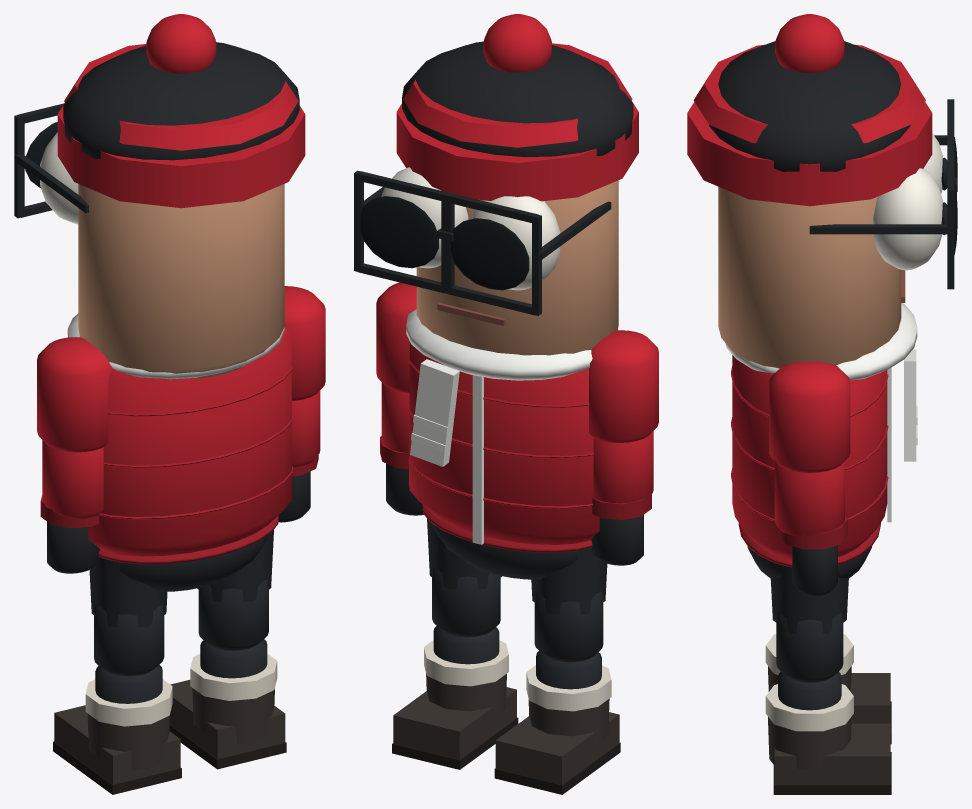
Rendered from spectator_winter_7.glb.
3 views of the same model, side by side, from view 1: azimuth 30°, elevation 25°; view 2: azimuth 150°, elevation 25°; view 3: azimuth 270°, elevation 25° (orthographic). The views are drawn at different scales.
Visible parts, largest first — view 1: Head, RallySpectator, LeftShin, RightShin, LeftArm, LeftLeg, LeftForearm, RightLeg, RightArm, RightForearm; view 2: Head, RallySpectator, LeftShin, RightShin, LeftArm, LeftForearm, LeftLeg, RightLeg, RightArm, RightForearm; view 3: Head, RallySpectator, RightShin, RightArm, RightForearm, RightLeg, LeftShin.
Boxes of the visible parts, bbox=[...] form: Head: bbox=[14, 14, 305, 378]; RallySpectator: bbox=[67, 313, 293, 591]; LeftShin: bbox=[53, 665, 181, 794]; RightShin: bbox=[169, 639, 286, 769]; LeftArm: bbox=[37, 337, 112, 452]; LeftLeg: bbox=[89, 558, 167, 676]; LeftForearm: bbox=[40, 440, 103, 573]; RightLeg: bbox=[197, 530, 273, 650]; RightArm: bbox=[284, 286, 325, 400]; RightForearm: bbox=[278, 390, 320, 522]; Head: bbox=[354, 14, 638, 355]; RallySpectator: bbox=[406, 309, 618, 579]; LeftShin: bbox=[494, 651, 620, 794]; RightShin: bbox=[392, 626, 518, 769]; LeftArm: bbox=[589, 330, 658, 442]; LeftForearm: bbox=[591, 431, 653, 565]; LeftLeg: bbox=[531, 548, 607, 662]; RightLeg: bbox=[427, 519, 501, 637]; RightArm: bbox=[376, 282, 416, 392]; RightForearm: bbox=[380, 382, 423, 515]; Head: bbox=[687, 14, 957, 368]; RallySpectator: bbox=[725, 303, 917, 578]; RightShin: bbox=[765, 671, 891, 794]; RightArm: bbox=[769, 361, 850, 472]; RightForearm: bbox=[774, 461, 847, 596]; RightLeg: bbox=[770, 565, 848, 682]; LeftShin: bbox=[765, 634, 891, 744].
Bounding box in the file's own units: 0.9 × 2.3 × 0.768.
